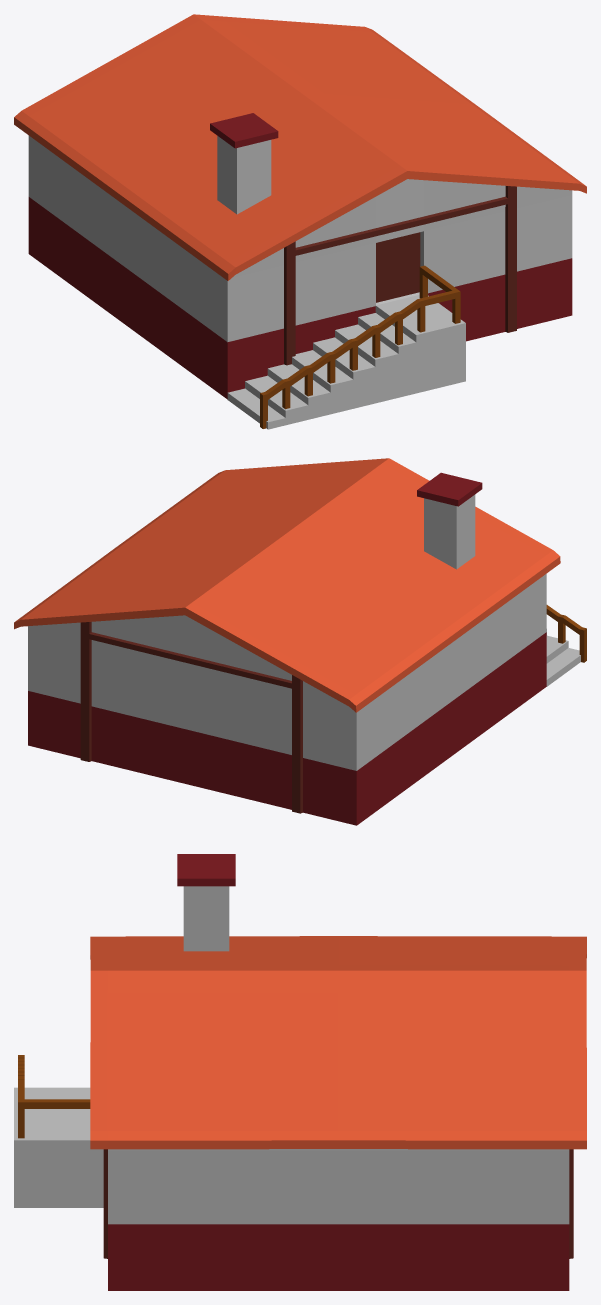
File: house1.glb
3 renders of one model, top to bottom at view 1: azimuth 30°, elevation 25°; view 2: azimuth 150°, elevation 25°; view 3: azimuth 270°, elevation 25°, orthographic. The views are drawn at different scales.
Visible parts, largest first — view 1: house, door; view 2: house; view 3: house.
Part boxes in pixels (box(x1,y1,x2,y2)): house: box(14, 14, 586, 429); door: box(376, 232, 420, 302); house: box(14, 458, 586, 825); house: box(14, 854, 586, 1290).
Bounding box in the file's own units: 2.19 × 1.32 × 2.61.
